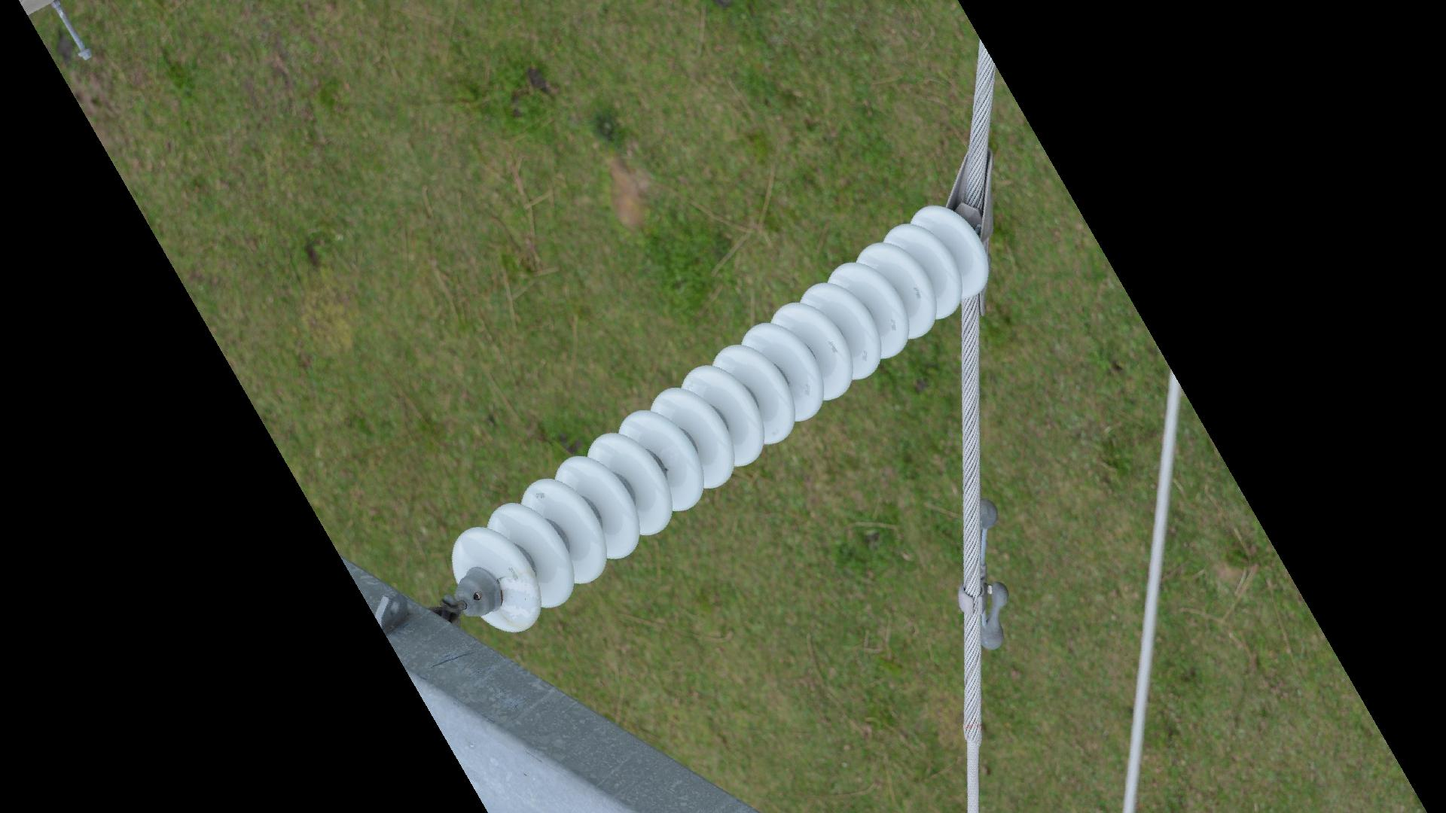insulator: (441, 198, 997, 639)
insulator_flashover: (498, 582, 541, 618)
